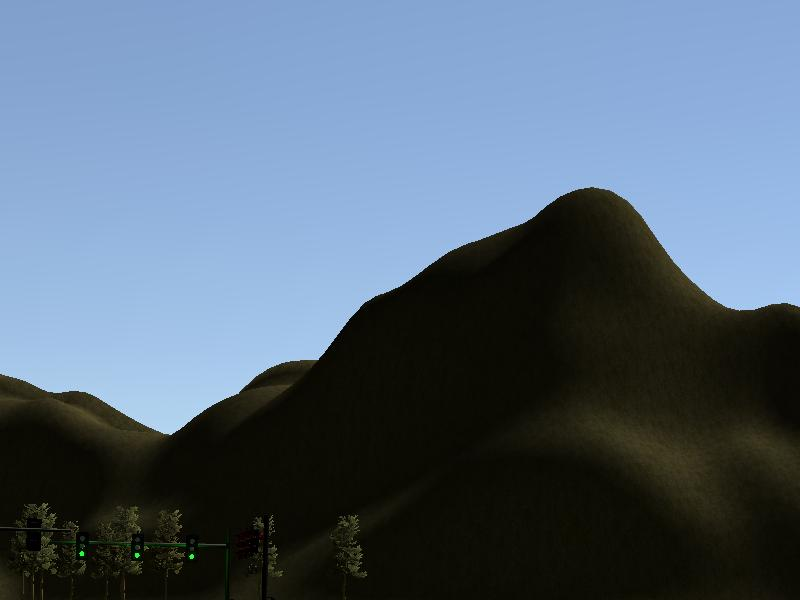Green: (75, 532, 89, 560), (131, 533, 144, 561), (185, 535, 198, 563)
